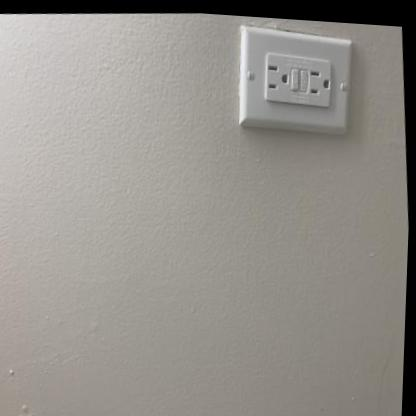OUTLET: (234, 21, 353, 142)
